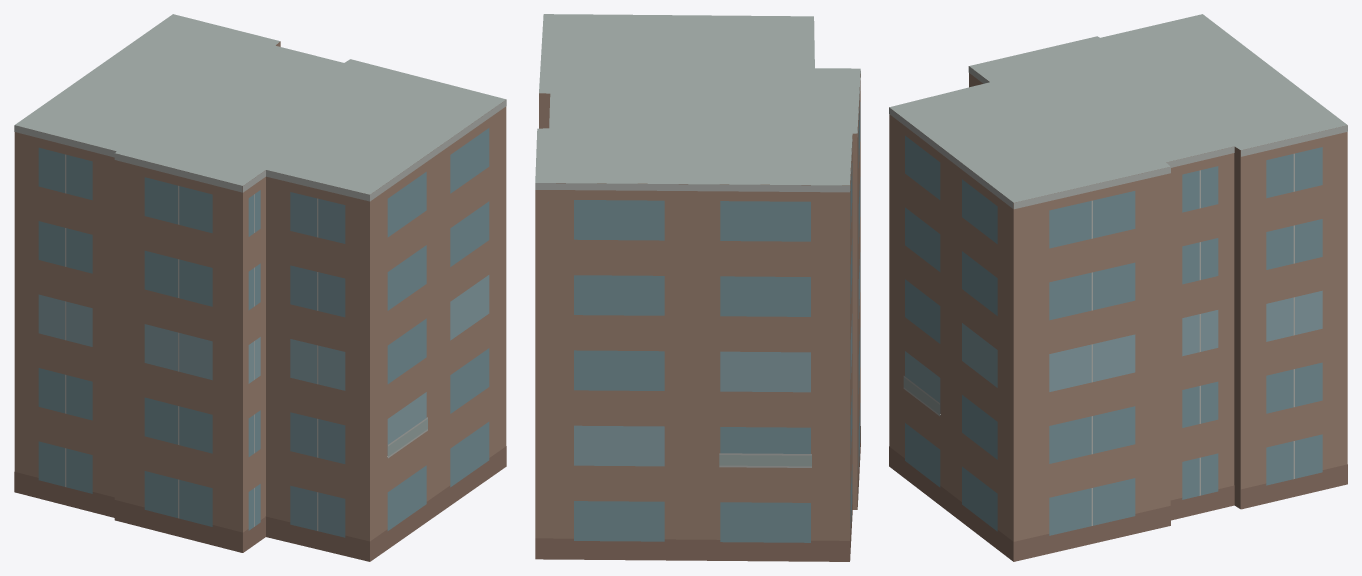
The model's file is survey-upis-32658034.glb.
The picture shows the model from 3 angles, left to right: view 1: azimuth 30°, elevation 25°; view 2: azimuth 150°, elevation 25°; view 3: azimuth 270°, elevation 25°; orthographic projection. The views are drawn at different scales.
Visible parts, largest first — view 1: survey-upis-32658034.tmp; view 2: survey-upis-32658034.tmp; view 3: survey-upis-32658034.tmp.
Boxes of the visible parts, box(x1,y1,x2,y2) form: survey-upis-32658034.tmp: box(14, 14, 506, 561); survey-upis-32658034.tmp: box(535, 14, 860, 561); survey-upis-32658034.tmp: box(889, 14, 1347, 561).
Size of the model in its own units: 14.89 by 13.2 by 15.29.
